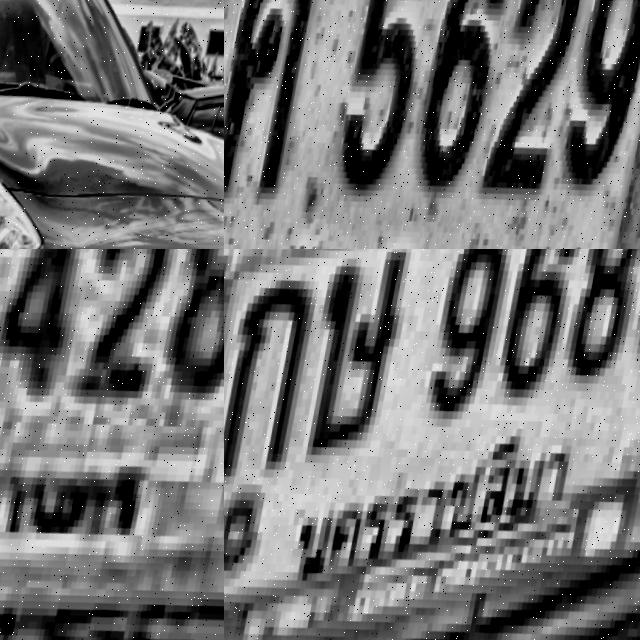license-plate: (224, 249, 640, 640), (224, 0, 640, 249), (0, 249, 224, 640)
